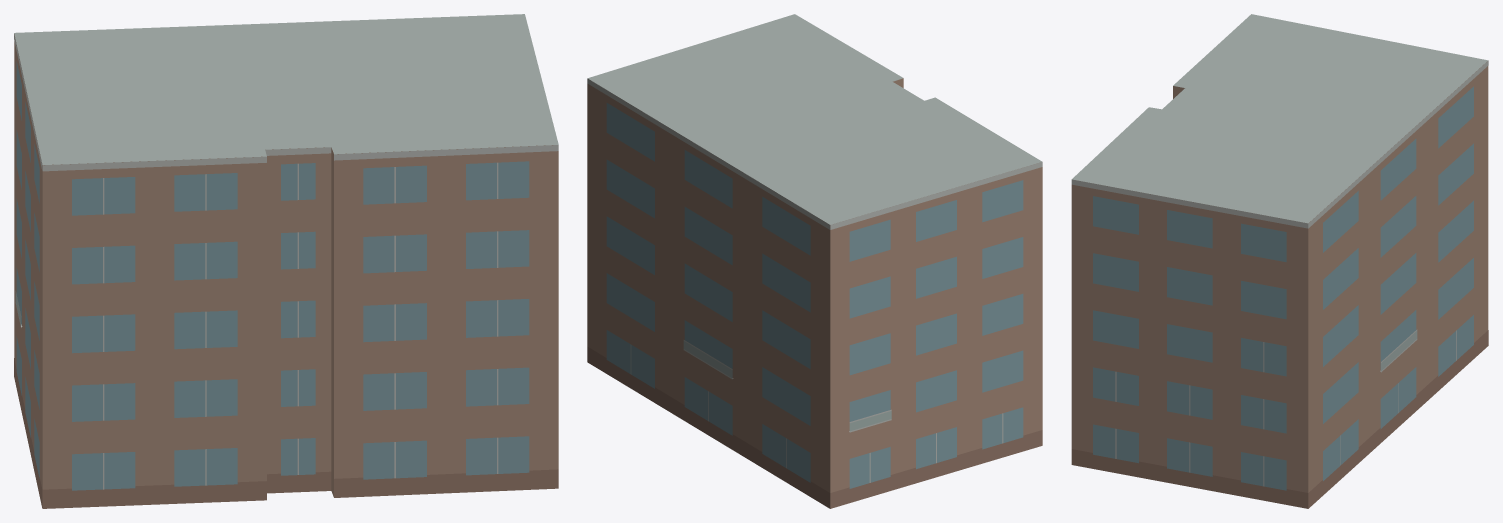
File: survey-upis-32679601.glb
The picture shows the model from 3 angles, left to right: view 1: azimuth 30°, elevation 25°; view 2: azimuth 150°, elevation 25°; view 3: azimuth 270°, elevation 25°; orthographic projection. The views are drawn at different scales.
Parts seen in each view (by area): view 1: survey-upis-32679601.tmp; view 2: survey-upis-32679601.tmp; view 3: survey-upis-32679601.tmp.
Part boxes in pixels (bbox=[...]): survey-upis-32679601.tmp: bbox=[14, 14, 558, 508]; survey-upis-32679601.tmp: bbox=[587, 14, 1042, 508]; survey-upis-32679601.tmp: bbox=[1071, 14, 1488, 508].
Bounding box in the file's own units: 21.09 × 13.4 × 17.74.
